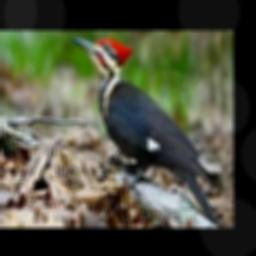Woodpecker: (72, 37, 224, 227)
